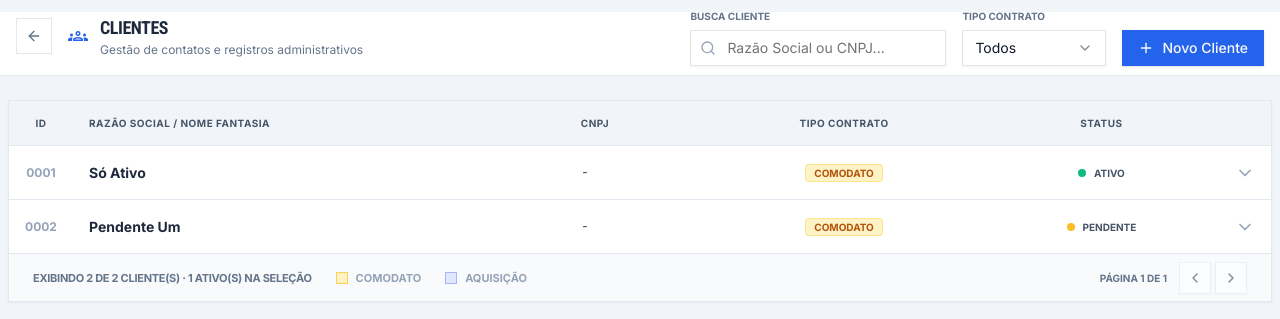
Test: ClientesPage › após filtrar por status na busca, rodapé reflete apenas linhas exibidas
Type "Pendente" into the field with placeholder "Razão Social ou CNPJ..." at (818, 48), box [690, 30, 946, 66]
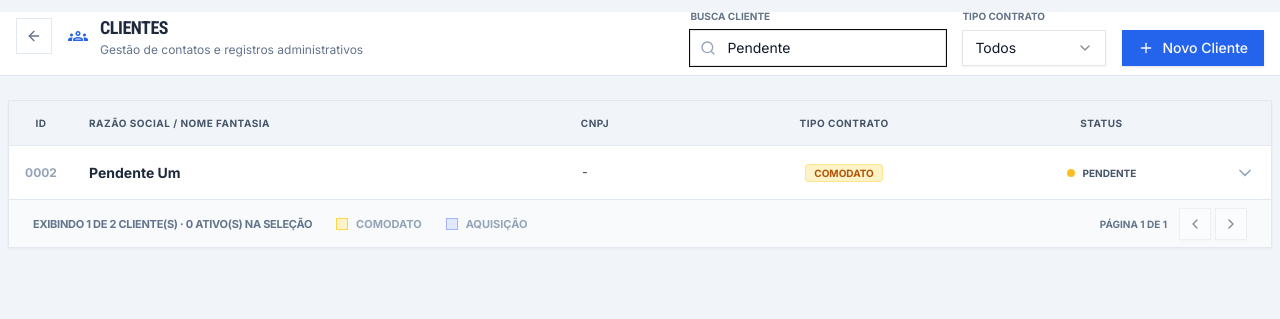
Expected: the text "Exibindo 1 de 2 cliente(s) · 0 ativo(s) na seleção" is shown, [33, 214, 312, 234]
